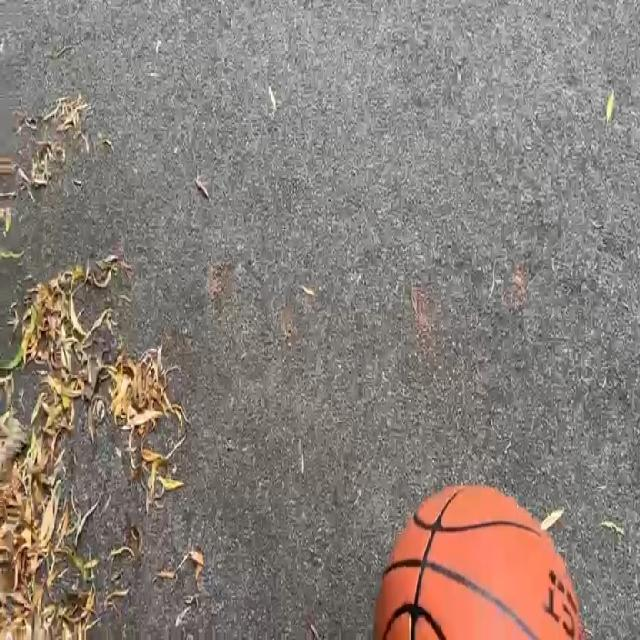Basketball: (370, 486, 578, 640)
